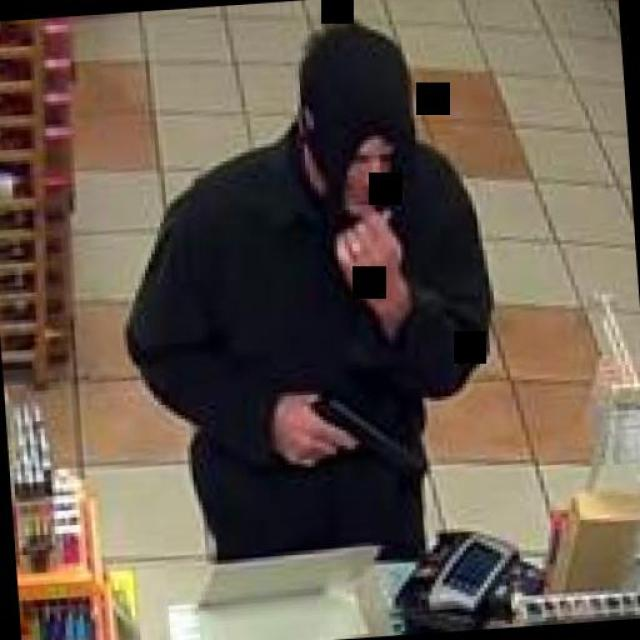gun: (288, 382, 412, 472)
